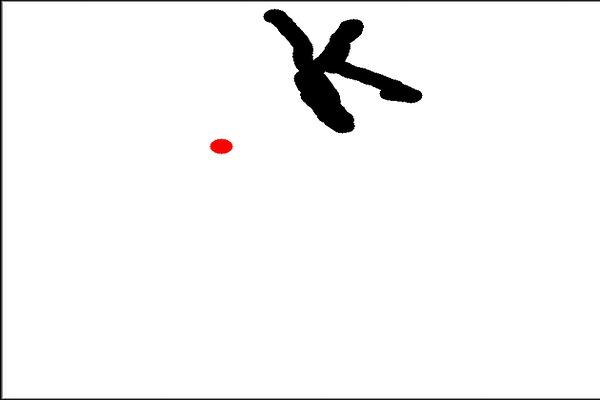K: (256, 6, 428, 139)
